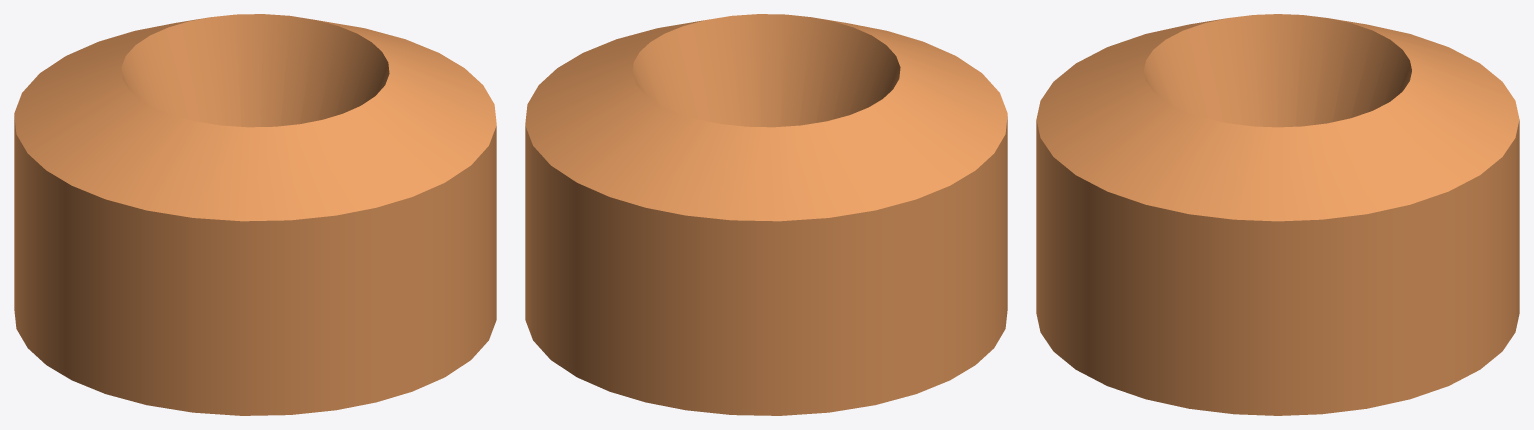
File: revolve_cone_tip.glb
The picture shows the model from 3 angles, left to right: view 1: azimuth 30°, elevation 25°; view 2: azimuth 150°, elevation 25°; view 3: azimuth 270°, elevation 25°; orthographic projection.
Visible parts, largest first — view 1: sleeve; view 2: sleeve; view 3: sleeve.
Part boxes in pixels (bbox=[...]): sleeve: bbox=[14, 14, 496, 415]; sleeve: bbox=[525, 14, 1007, 415]; sleeve: bbox=[1036, 14, 1519, 415].
Bounding box in the file's own units: 18 × 14 × 18.
